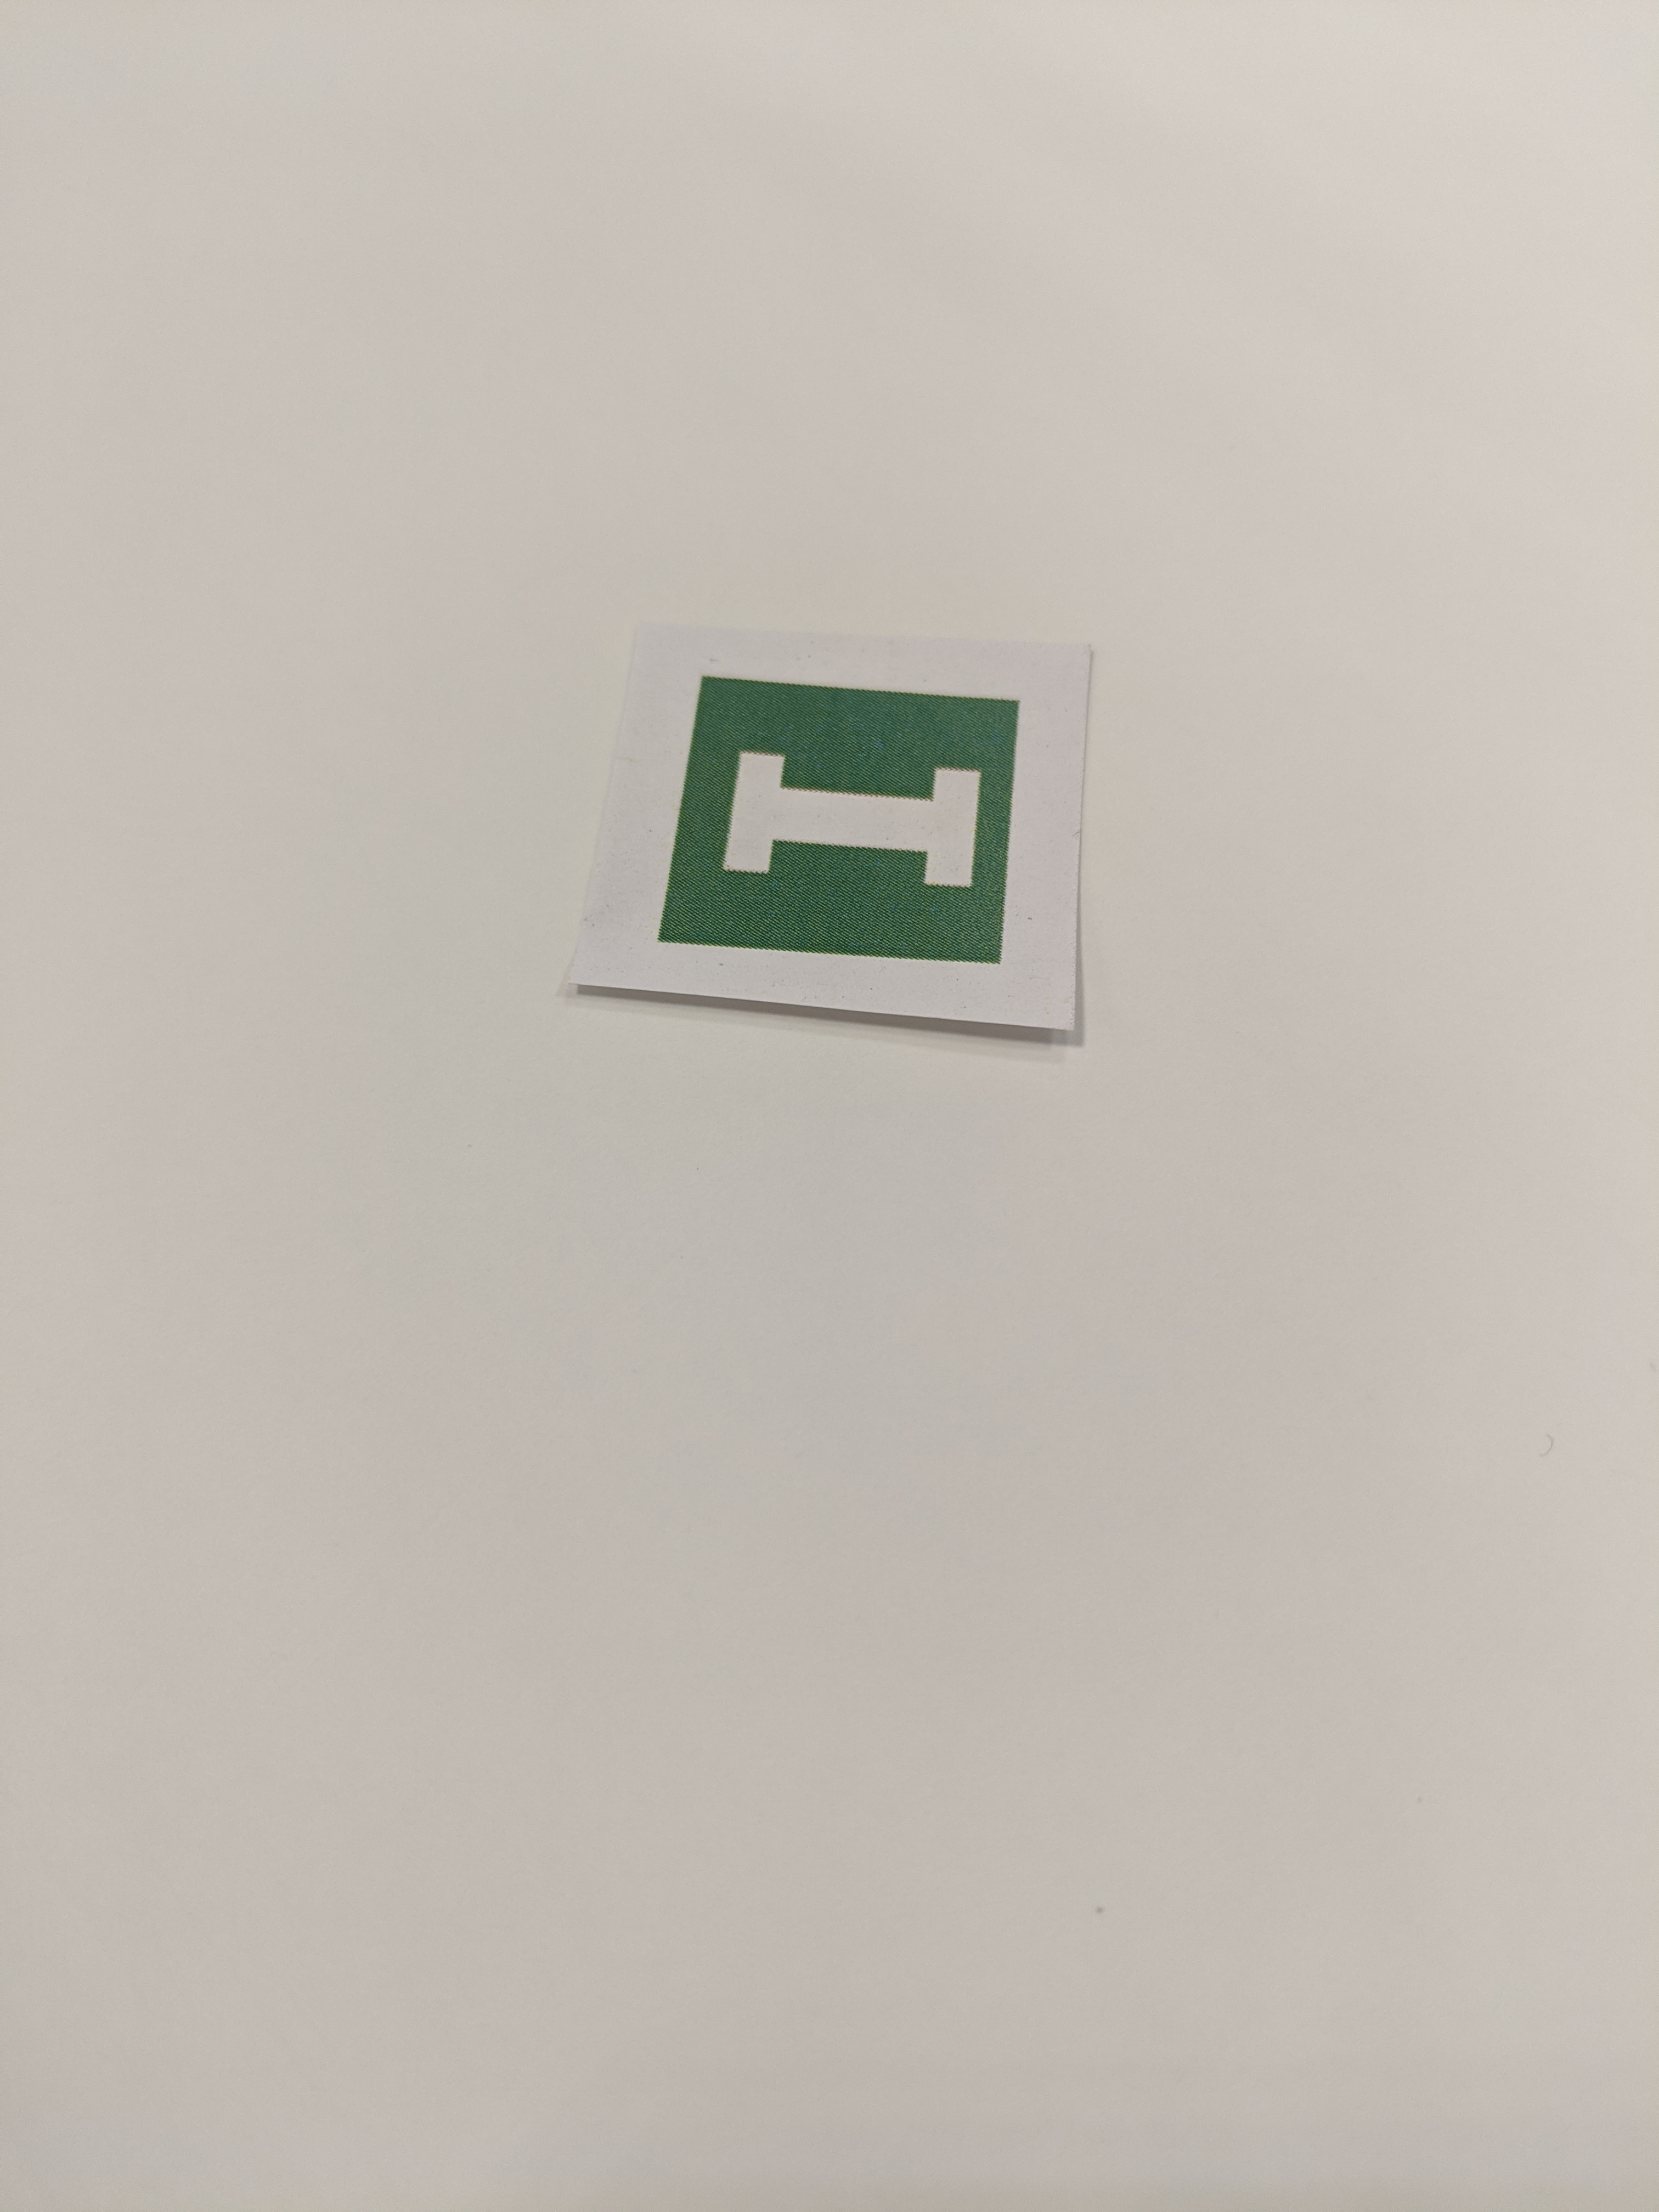marker: (577, 613, 1108, 1061)
